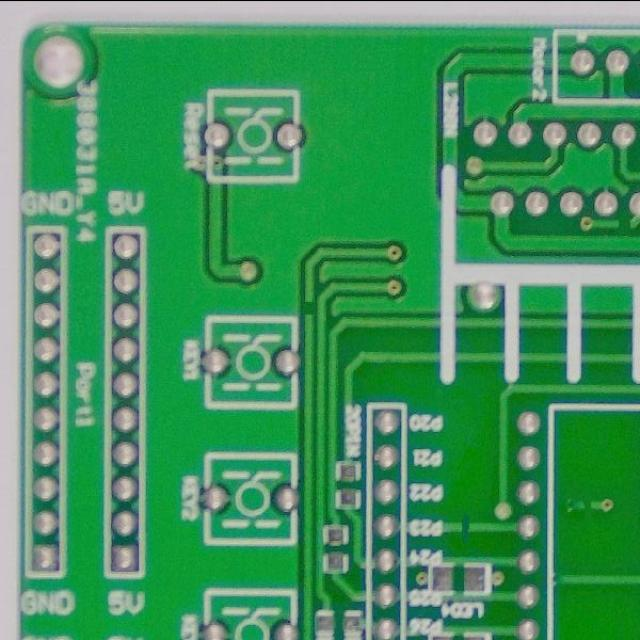Open_Circuit: (452, 511, 482, 540), (607, 209, 640, 235), (574, 492, 601, 516), (300, 294, 318, 324)
